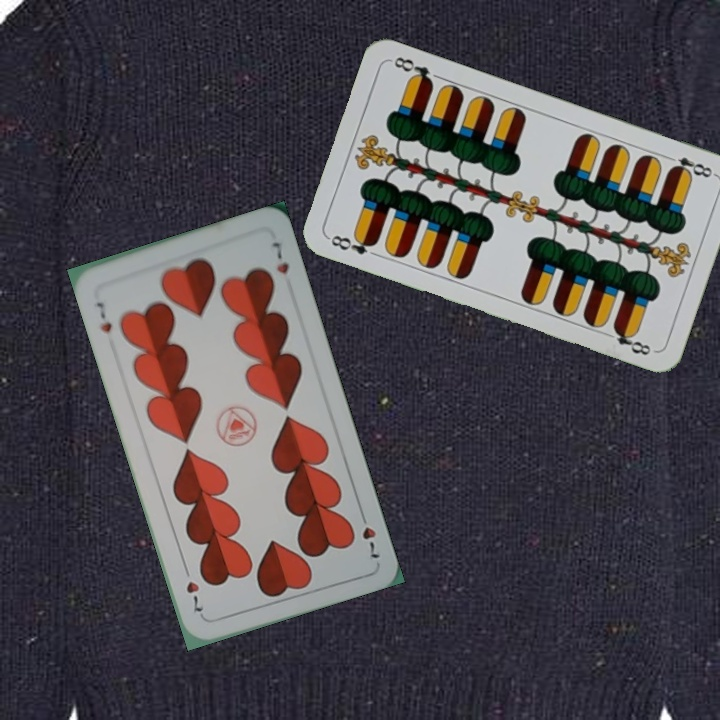E8: (661, 151, 718, 181), (325, 230, 380, 258)
H7: (355, 506, 382, 563), (92, 298, 115, 335)
